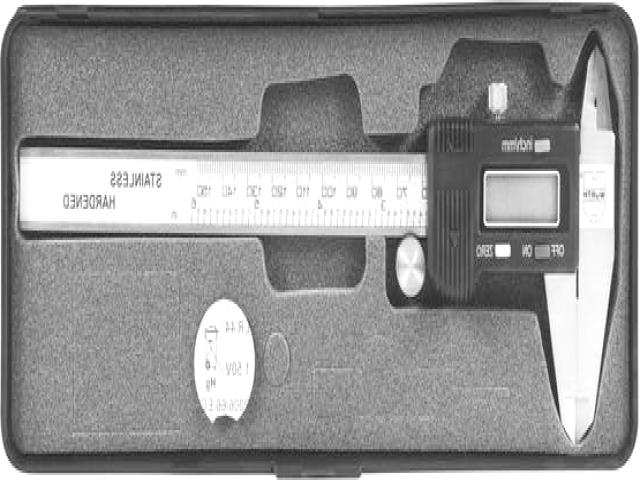Calipers: (20, 49, 615, 440)
